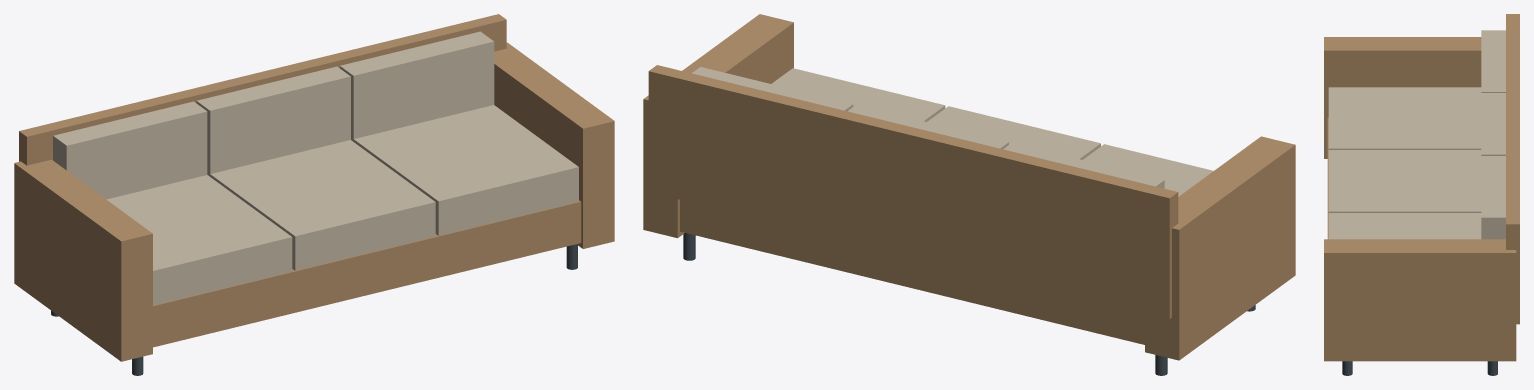
File: sofa-2.glb
3 renders of one model, left to right at view 1: azimuth 30°, elevation 25°; view 2: azimuth 150°, elevation 25°; view 3: azimuth 270°, elevation 25°, orthographic. The views are drawn at different scales.
Visible parts, largest first — view 1: sofa:2:editor; view 2: sofa:2:editor; view 3: sofa:2:editor.
Part boxes in pixels (x1=…): sofa:2:editor: x1=14, y1=14, x2=614, y2=375; sofa:2:editor: x1=643, y1=14, x2=1295, y2=375; sofa:2:editor: x1=1324, y1=14, x2=1519, y2=375.
Bounding box in the file's own units: 2.18 × 0.75 × 0.8349.
